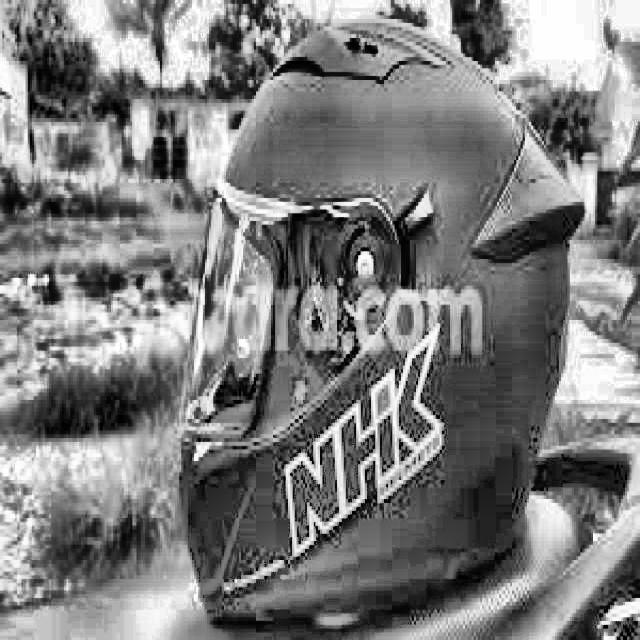Helmet: (177, 16, 584, 623)
